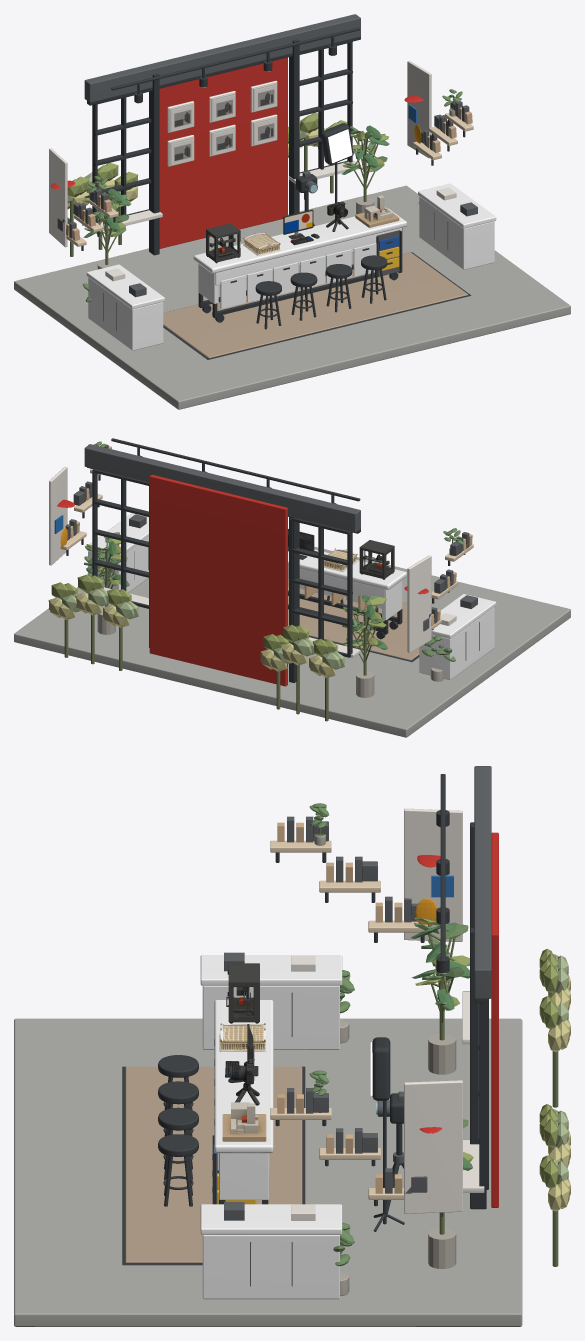
The model's file is studio.glb.
3 views of the same model, one above another, from view 1: azimuth 30°, elevation 25°; view 2: azimuth 150°, elevation 25°; view 3: azimuth 270°, elevation 25° (orthographic). The views are drawn at different scales.
Parts seen in each view (by area): view 1: Floor | room slab, Red feature wall, Studio rug, Upper rear header, Right side cabinet body, Left side cabinet body, Workbench top, Feature wall side post -4.1, Feature wall side post +4.1, Workbench front apron, Right abstract poster backing, Left abstract poster backing (+21 smaller); view 2: Red feature wall, Floor | room slab, Upper rear header, Left side cabinet body, Studio rug, Left abstract poster backing, Right abstract poster backing, Workbench top, Left side cabinet top, Printer, Feature wall side post -4.1, Right side cabinet body (+11 smaller); view 3: Floor | room slab, Studio rug, Right side cabinet body, Right abstract poster backing, Left side cabinet body, Workbench top, Left abstract poster backing, Upper rear header, Right side cabinet top, Left side cabinet top, Red feature wall, Workbench end panel.001 (+18 smaller).
Boxes of the visible parts, x1,y1,x2,y2 form: Floor | room slab: (14,185,570,409); Red feature wall: (159,57,287,248); Studio rug: (163,252,467,358); Upper rear header: (84,14,360,102); Right side cabinet body: (419,196,494,269); Left side cabinet body: (88,277,163,350); Workbench top: (193,208,406,273); Feature wall side post -4.1: (149,73,159,255); Feature wall side post +4.1: (289,39,299,214); Workbench front apron: (215,228,401,285); Right abstract poster backing: (407,60,431,158); Left abstract poster backing: (49,148,67,247); Red feature wall: (149,474,287,686); Floor | room slab: (14,546,570,737); Upper rear header: (84,444,360,532); Left side cabinet body: (419,607,494,680); Studio rug: (288,586,419,660); Left abstract poster backing: (407,555,431,652); Right abstract poster backing: (49,466,67,565); Workbench top: (288,549,406,589); Left side cabinet top: (431,594,496,638); Printer: (359,540,394,579); Feature wall side post -4.1: (289,516,299,682); Right side cabinet body: (88,537,148,592); Floor | room slab: (14,1018,522,1326); Studio rug: (125,1066,302,1262); Right side cabinet body: (202,1235,339,1299); Right abstract poster backing: (404,1080,462,1213); Left side cabinet body: (202,985,339,1049); Workbench top: (214,1000,273,1153); Left abstract poster backing: (404,808,462,941); Upper rear header: (474,766,491,998); Right side cabinet top: (200,1204,342,1234); Left side cabinet top: (200,955,342,985); Red feature wall: (491,832,498,1207); Workbench end panel.001: (219,1153,268,1199).
Size of the model in its own units: 16.8 by 8.28 by 13.37.
Materials: 35 (5 with a texture image).
